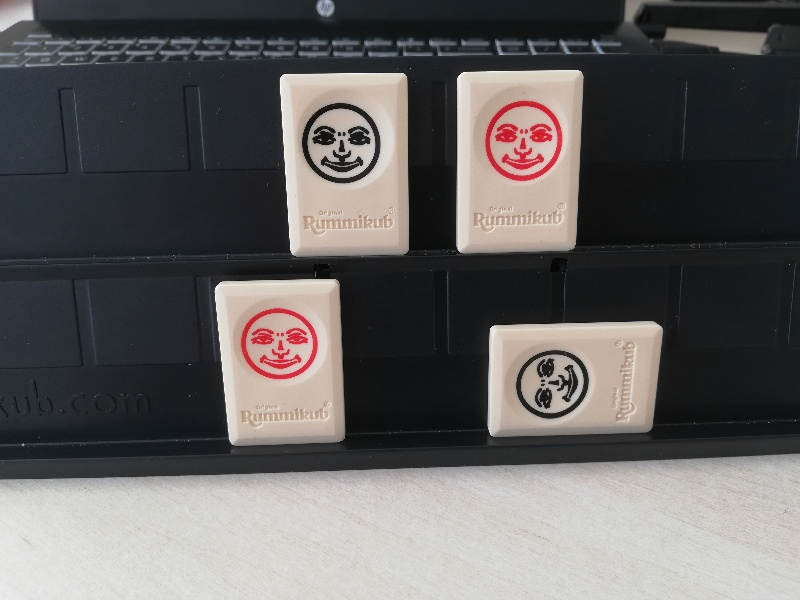joker: (447, 66, 586, 254), (276, 70, 413, 259), (212, 276, 359, 449), (476, 318, 673, 444)
